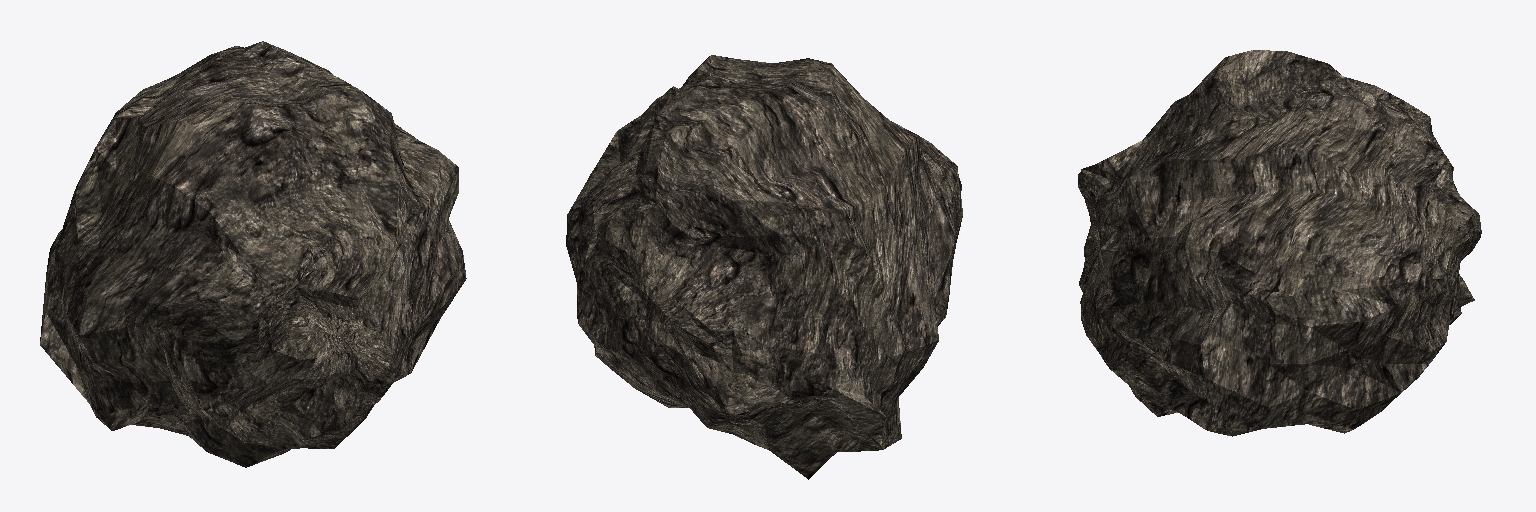
The picture shows the model from 3 angles: view 1: azimuth 30°, elevation 25°; view 2: azimuth 150°, elevation 25°; view 3: azimuth 270°, elevation 25°; orthographic projection.
Parts seen in each view (by area): view 1: Sphere03; view 2: Sphere03; view 3: Sphere03.
Part boxes in pixels (left/top/right/bottom): Sphere03: left=40, top=41, right=466, bottom=467; Sphere03: left=566, top=55, right=962, bottom=479; Sphere03: left=1078, top=50, right=1481, bottom=436.
Size of the model in its own units: 505 by 505 by 506.
1 materials, 1 textured.